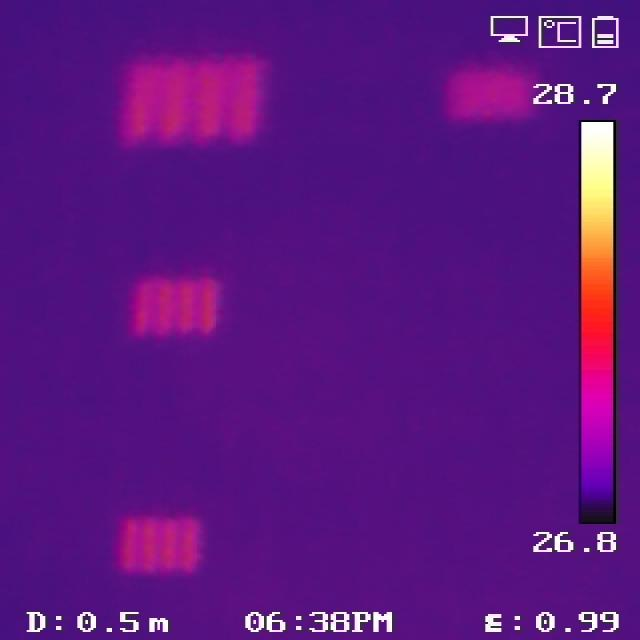Indistinguishable 4-bar target: (451, 59, 538, 113)
threshold 4-bar target: (119, 59, 257, 144), (132, 272, 221, 336), (115, 515, 205, 576)
